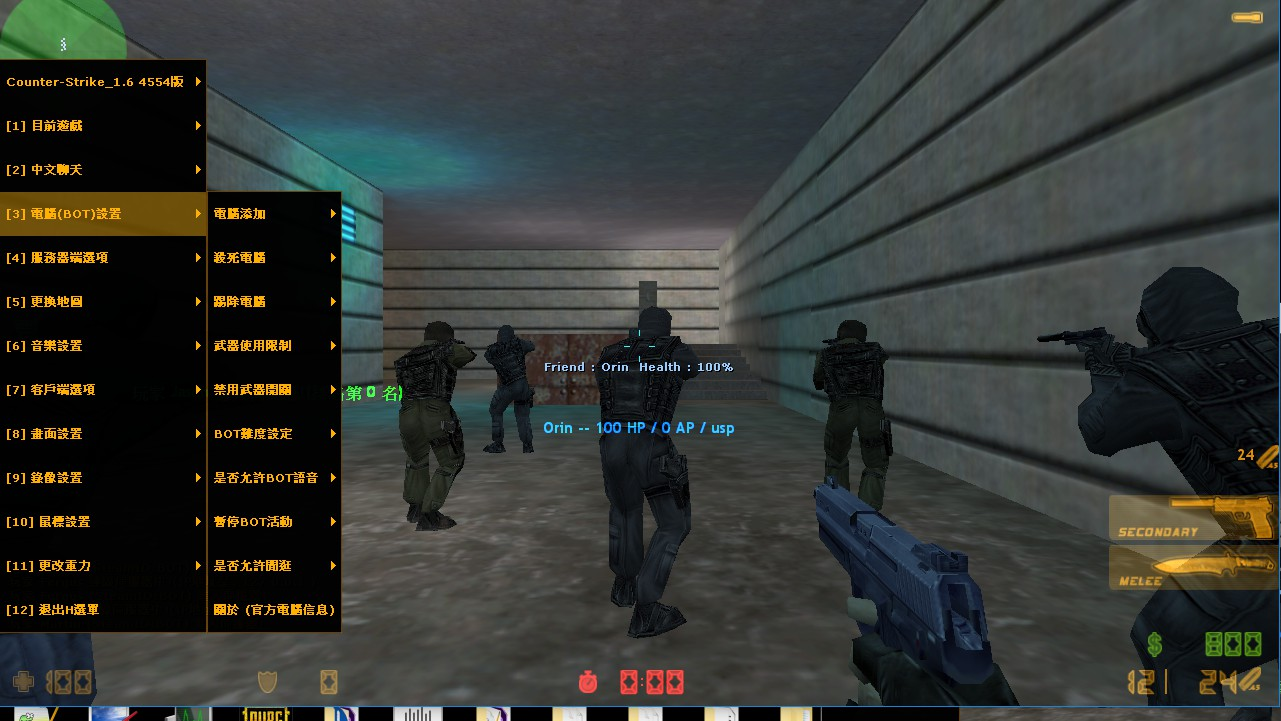person: (588, 301, 701, 636), (815, 310, 905, 502), (395, 323, 473, 534), (482, 317, 543, 459)
